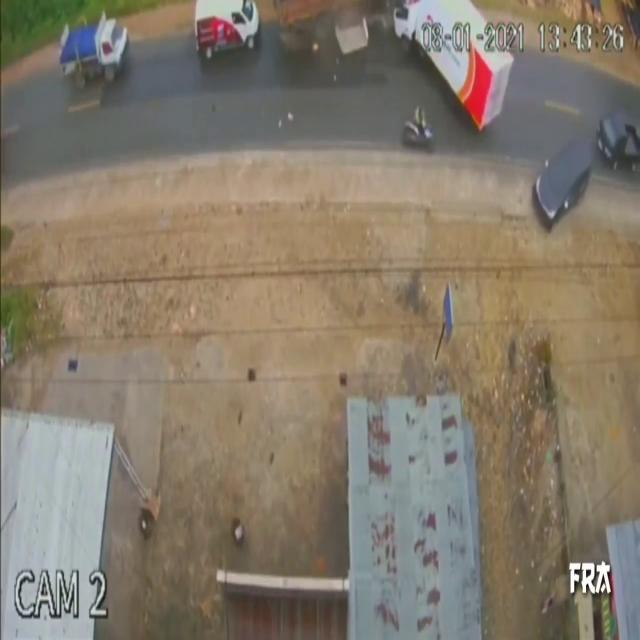multiple_accident: (272, 0, 468, 105), (524, 90, 639, 236)
normal: (395, 97, 456, 157)
